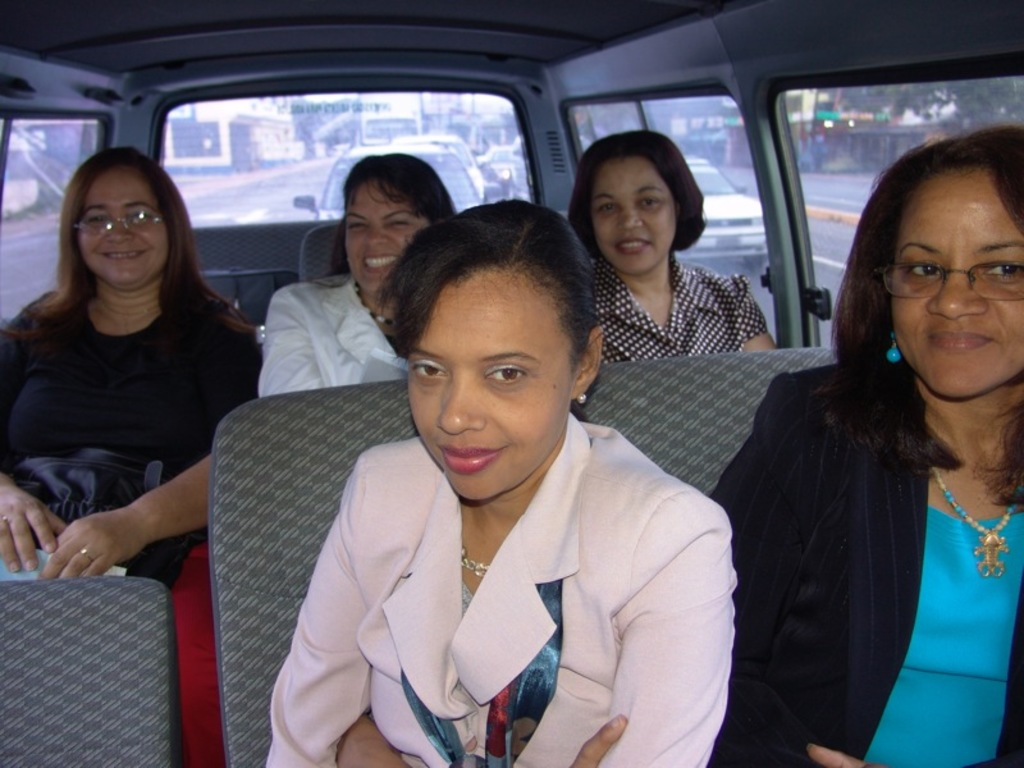Car: (0, 0, 1022, 766)
